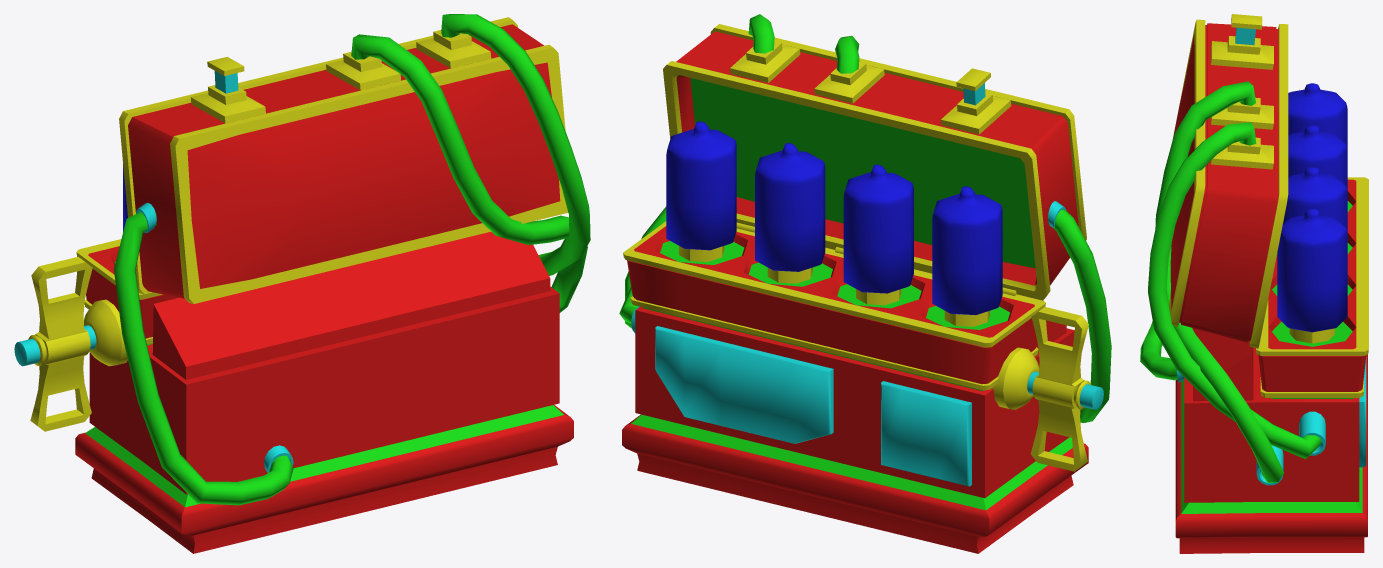
The model's file is Backwards_Clock.fbx.
3 renders of one model, left to right at view 1: azimuth 30°, elevation 25°; view 2: azimuth 150°, elevation 25°; view 3: azimuth 270°, elevation 25°, orthographic. The views are drawn at different scales.
Parts seen in each view (by area): view 1: Backwards Clock; view 2: Backwards Clock; view 3: Backwards Clock.
Boxes of the visible parts, x1,y1,x2,y2 form: Backwards Clock: [14, 14, 590, 553]; Backwards Clock: [619, 14, 1111, 553]; Backwards Clock: [1140, 14, 1368, 553].
Size of the model in its own units: 78.12 by 62.75 by 32.04.
